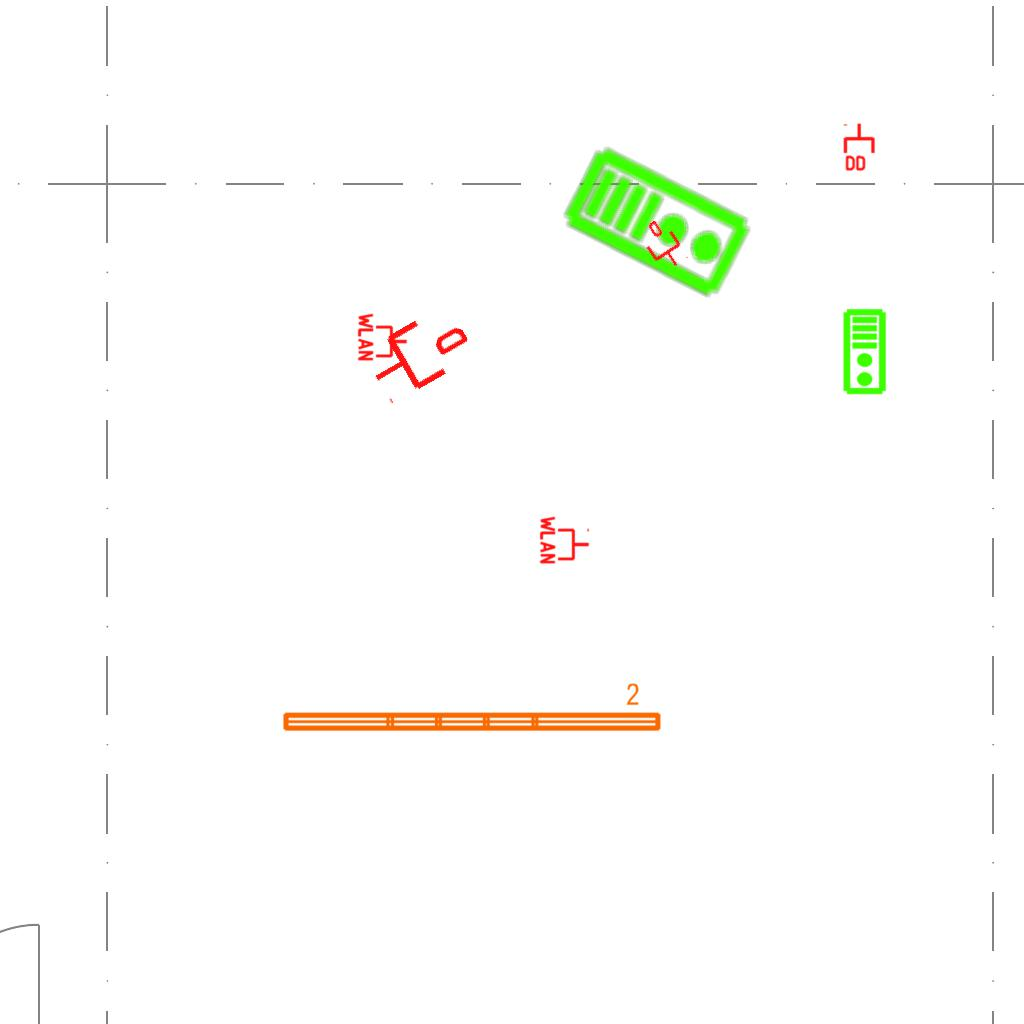Ambulanz_Pendelleuchte_LED: (278, 681, 665, 737)
Datenanschluss_einfach: (357, 299, 480, 409), (635, 214, 691, 276)
Datenanschluss_zweifach: (843, 122, 877, 173)
Gegensprechanlage_mit_Video: (558, 138, 759, 304), (842, 308, 889, 396)
WLAN: (539, 514, 591, 566), (357, 311, 409, 363)
